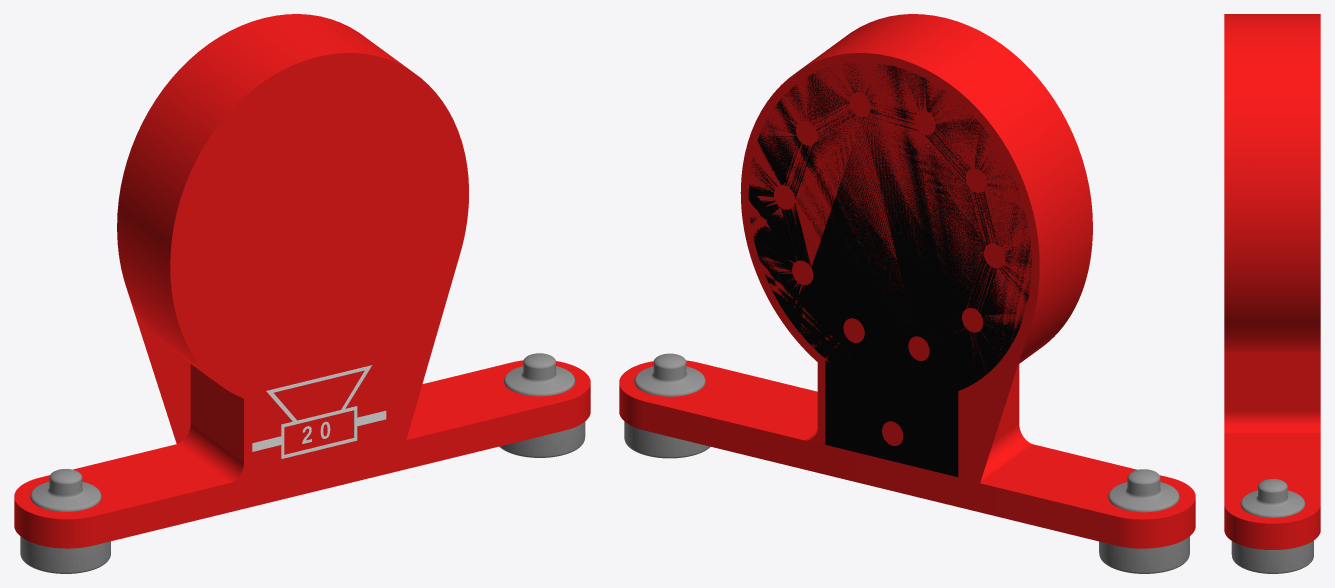
Rendered from Horn.FBX.
3 views of the same model, side by side, from view 1: azimuth 30°, elevation 25°; view 2: azimuth 150°, elevation 25°; view 3: azimuth 270°, elevation 25° (orthographic). The views are drawn at different scales.
Parts seen in each view (by area): view 1: Base (×3), ButtonUp (×2), ButtonDown (×2); view 2: Base (×3), ButtonUp (×2), ButtonDown (×2); view 3: Base (×2), ButtonDown, ButtonUp.
Part boxes in pixels (x1,y1,x2,y2): Base (×3): (14,14,590,548); ButtonUp (×2): (30,353,575,511); ButtonDown (×2): (20,421,585,573); Base (×3): (619,14,1195,548); ButtonUp (×2): (634,353,1179,512); ButtonDown (×2): (624,421,1189,573); Base (×2): (1224,14,1320,549); ButtonDown: (1231,540,1313,573); ButtonUp: (1240,479,1305,517).
Bounding box in the file's own units: 94.48 × 74.46 × 15.53.
